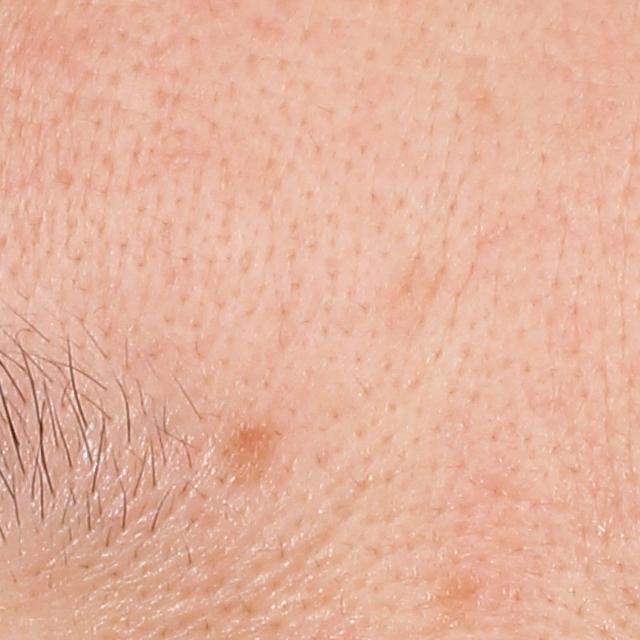atrophic_scar: (454, 48, 503, 142)
melasma: (207, 419, 279, 496)
